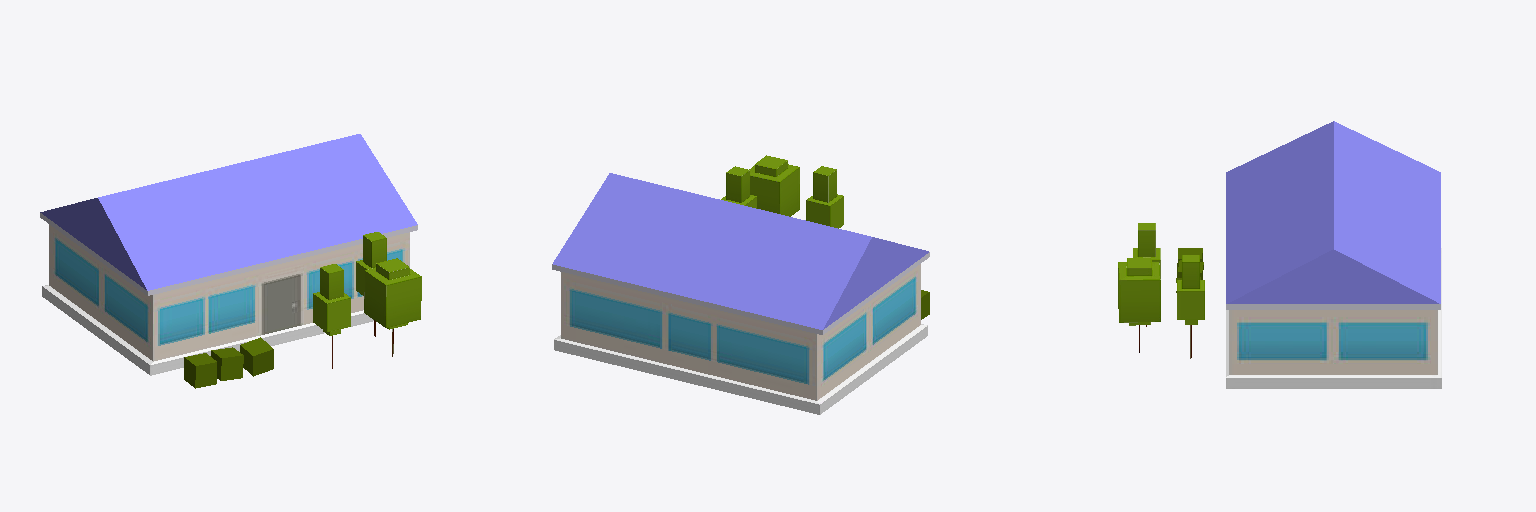
3 views of the same model, side by side, from view 1: azimuth 30°, elevation 25°; view 2: azimuth 150°, elevation 25°; view 3: azimuth 270°, elevation 25° (orthographic).
Visible parts, largest first — view 1: living_purple_1lvl_Mesh.159, Tree_3_499_2.005_Mesh.162, Tree_2_3_61.011_Mesh.161, Tree_2_3_61.010_Mesh.160, Cube_51.009_Mesh.163, Cube_51.011_Mesh.165, Cube_51.010_Mesh.164; view 2: living_purple_1lvl_Mesh.159, Tree_3_499_2.005_Mesh.162, Tree_2_3_61.011_Mesh.161, Tree_2_3_61.010_Mesh.160; view 3: living_purple_1lvl_Mesh.159, Tree_3_499_2.005_Mesh.162, Tree_2_3_61.010_Mesh.160, Tree_2_3_61.011_Mesh.161.
Boxes of the visible parts, x1=… form: living_purple_1lvl_Mesh.159: x1=40, y1=134, x2=417, y2=375; Tree_3_499_2.005_Mesh.162: x1=364, y1=258, x2=421, y2=356; Tree_2_3_61.011_Mesh.161: x1=313, y1=264, x2=350, y2=368; Tree_2_3_61.010_Mesh.160: x1=356, y1=232, x2=386, y2=336; Cube_51.009_Mesh.163: x1=184, y1=353, x2=216, y2=388; Cube_51.011_Mesh.165: x1=240, y1=337, x2=273, y2=376; Cube_51.010_Mesh.164: x1=211, y1=347, x2=243, y2=380; living_purple_1lvl_Mesh.159: x1=552, y1=173, x2=929, y2=414; Tree_3_499_2.005_Mesh.162: x1=749, y1=155, x2=799, y2=216; Tree_2_3_61.011_Mesh.161: x1=806, y1=166, x2=843, y2=228; Tree_2_3_61.010_Mesh.160: x1=721, y1=166, x2=756, y2=208; living_purple_1lvl_Mesh.159: x1=1226, y1=121, x2=1441, y2=388; Tree_3_499_2.005_Mesh.162: x1=1118, y1=257, x2=1160, y2=352; Tree_2_3_61.010_Mesh.160: x1=1177, y1=255, x2=1204, y2=358; Tree_2_3_61.011_Mesh.161: x1=1133, y1=223, x2=1160, y2=326.
Size of the model in its own units: 1.77 by 0.8872 by 1.84.
Materials: 5 (4 with a texture image).